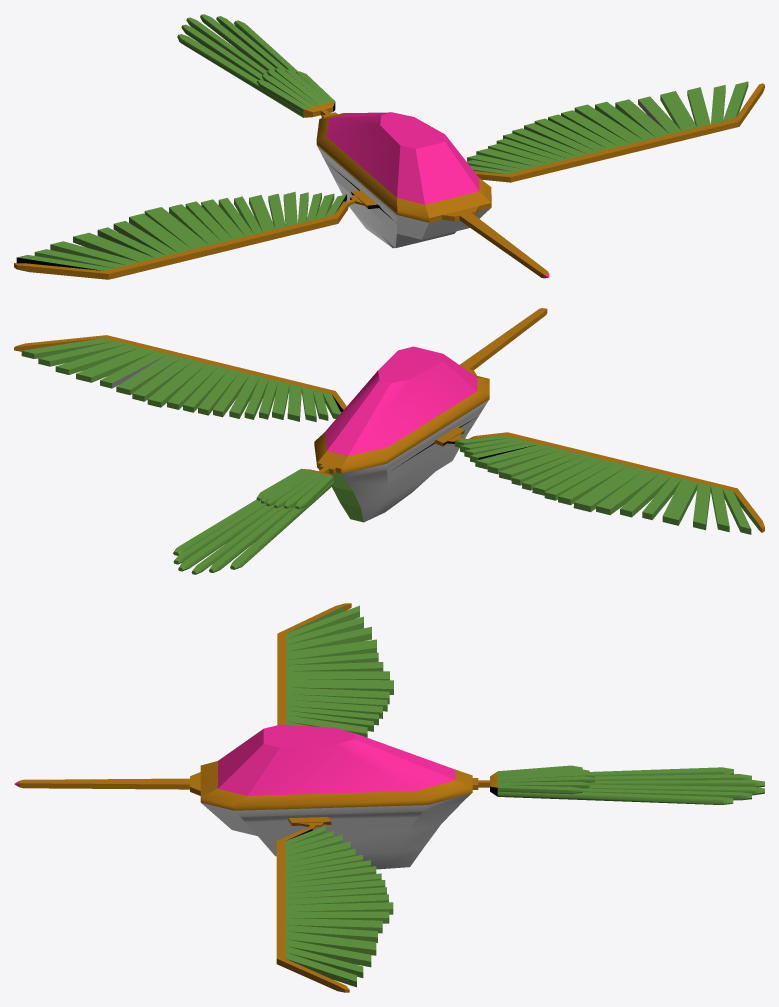
File: principalNave.obj
3 views of the same model, one above another, from view 1: azimuth 30°, elevation 25°; view 2: azimuth 150°, elevation 25°; view 3: azimuth 270°, elevation 25° (orthographic). The views are drawn at different scales.
Visible parts, largest first — view 1: pCube2; view 2: pCube2; view 3: pCube2.
Part boxes in pixels (bbox=[...]): pCube2: bbox=[14, 14, 764, 279]; pCube2: bbox=[14, 308, 764, 574]; pCube2: bbox=[14, 603, 764, 992].
Bounding box in the file's own units: 14.24 × 2.18 × 11.76.
